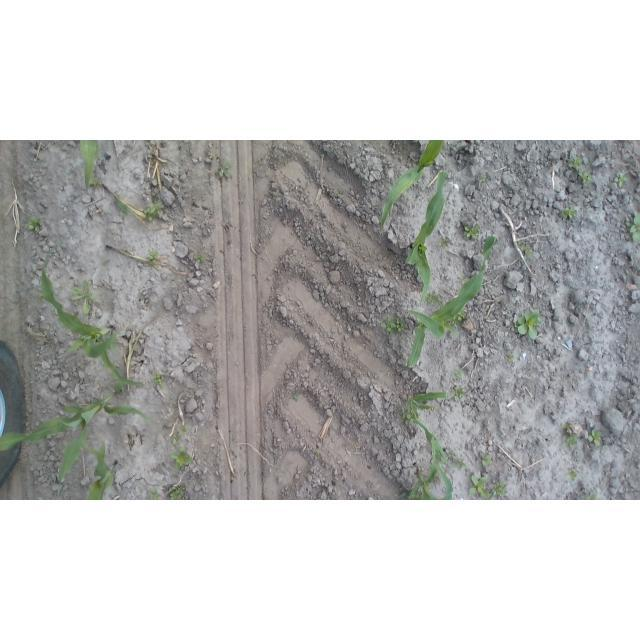Maize: (1, 392, 150, 500), (40, 240, 145, 389), (405, 234, 498, 376), (403, 167, 450, 309), (375, 140, 446, 233), (397, 436, 453, 500), (406, 391, 451, 466), (82, 440, 122, 500), (101, 180, 146, 221), (104, 244, 152, 266), (81, 141, 99, 192)
Weeds: (69, 279, 99, 316), (515, 309, 542, 340), (170, 445, 195, 469), (470, 473, 491, 500), (625, 210, 640, 243), (215, 161, 233, 180), (144, 204, 164, 221), (380, 317, 396, 337), (399, 407, 415, 426), (569, 155, 586, 172), (168, 484, 186, 500), (588, 427, 603, 446), (577, 169, 594, 185), (428, 291, 445, 306), (563, 432, 578, 449), (463, 225, 481, 239), (394, 316, 407, 335), (28, 215, 41, 234), (562, 206, 578, 221), (493, 479, 506, 497), (451, 385, 466, 400), (614, 172, 628, 188), (480, 453, 494, 467), (570, 469, 581, 485), (148, 485, 160, 499), (153, 373, 165, 387), (522, 246, 535, 258), (91, 176, 102, 190), (584, 491, 598, 500), (439, 236, 449, 248), (171, 433, 180, 446), (451, 317, 462, 327), (453, 367, 462, 378), (447, 452, 457, 461), (178, 426, 188, 435), (149, 251, 159, 260), (563, 422, 572, 431), (458, 310, 466, 320), (197, 253, 205, 263), (338, 190, 346, 199), (479, 174, 487, 183), (456, 459, 464, 468), (518, 240, 526, 248), (460, 274, 468, 282), (506, 354, 514, 362), (210, 153, 215, 160), (152, 192, 157, 197)
